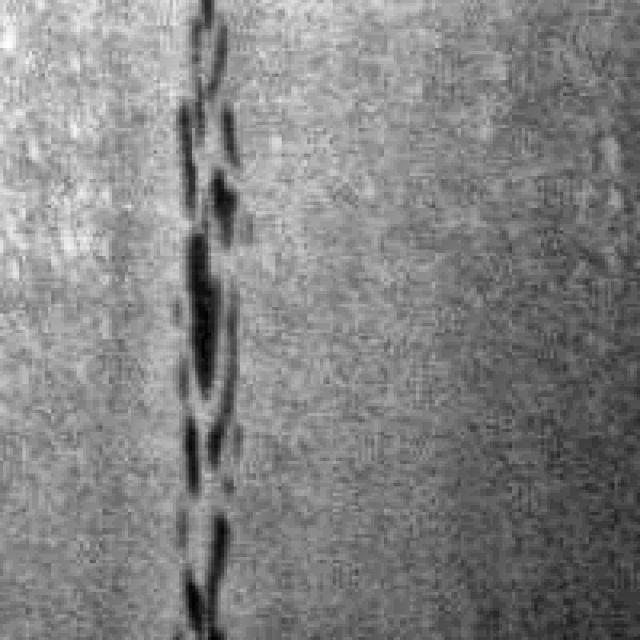Patches: (160, 0, 253, 560), (160, 490, 234, 628)
